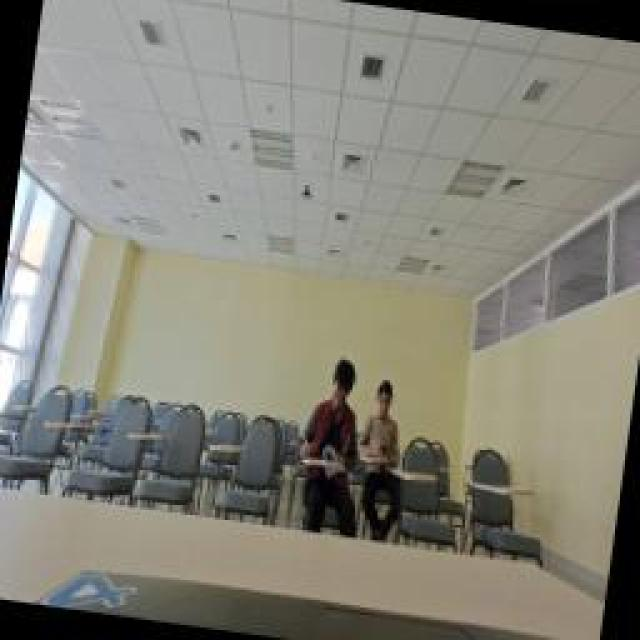study: (298, 353, 368, 465), (355, 377, 410, 465)
